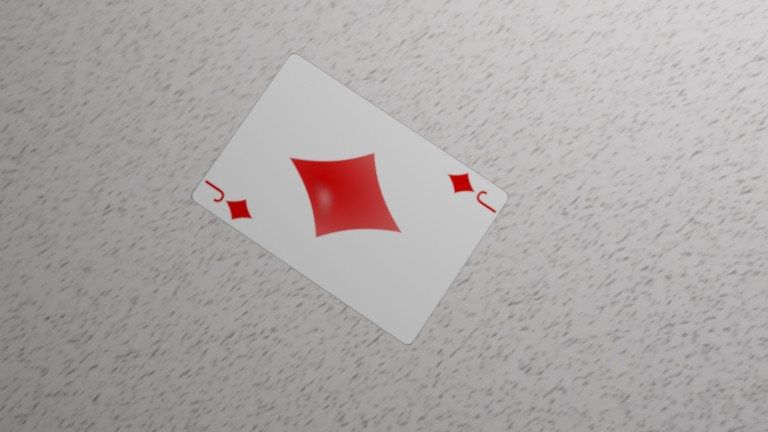jack_of_diamonds: (78, 68, 105, 93), (175, 64, 203, 88)
